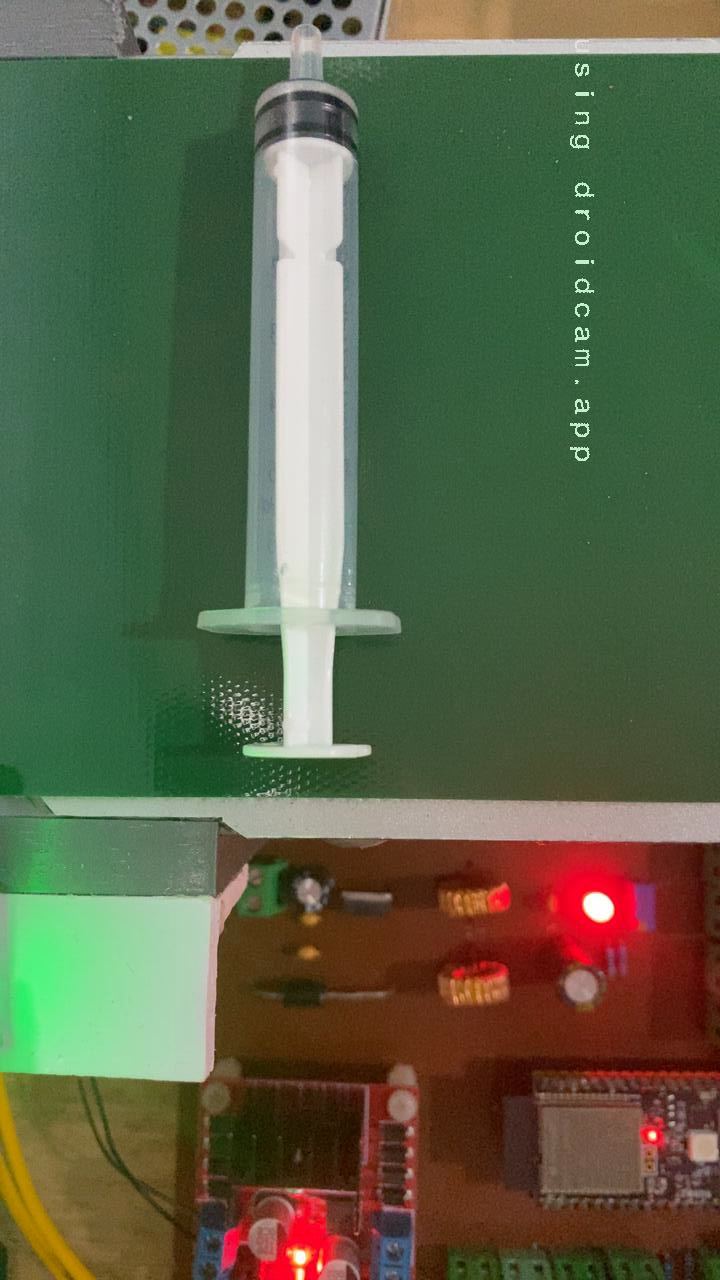syringe: (225, 56, 409, 766)
